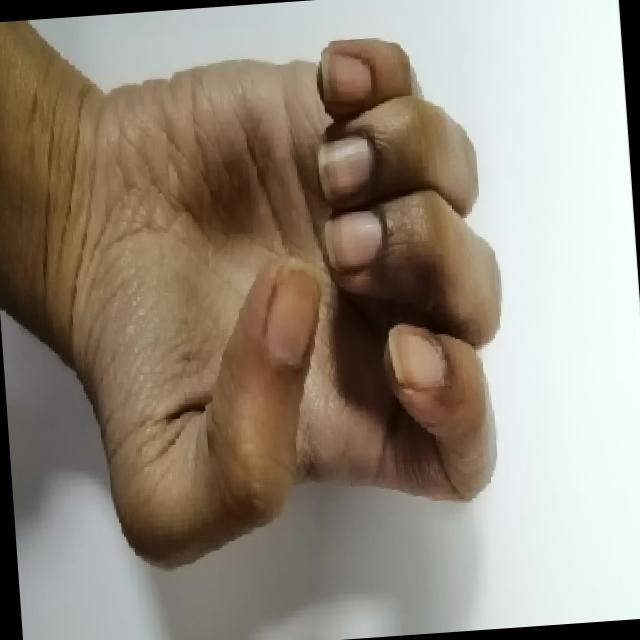Nail: (263, 265, 319, 367), (386, 324, 445, 390), (323, 210, 382, 269), (317, 137, 371, 200), (319, 53, 372, 102)
